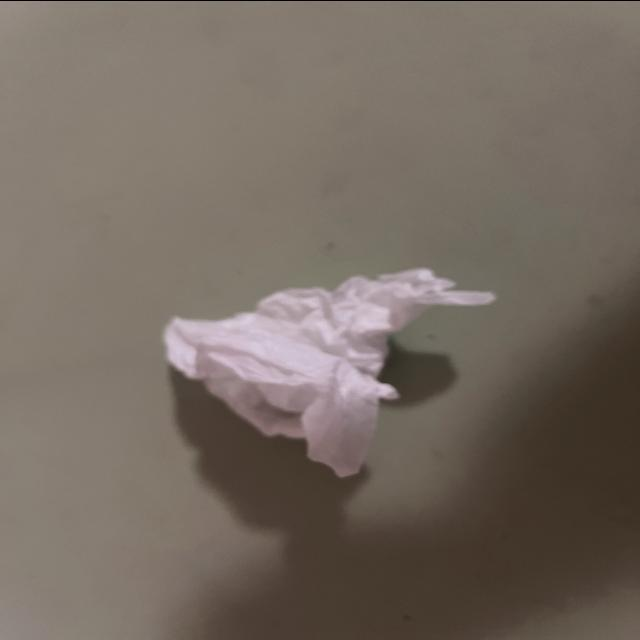Paper: (140, 258, 470, 476)
